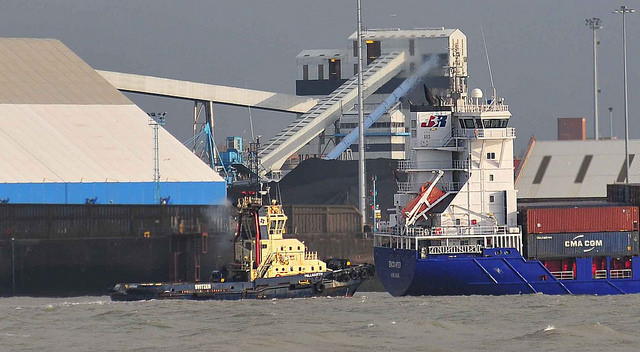tug_boat: (111, 198, 375, 304)
